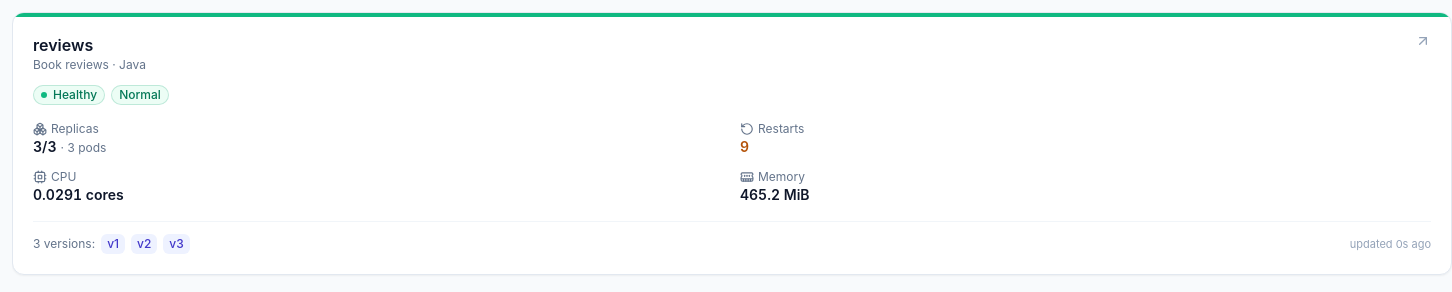
Test: ServiceCard › navigates to /services/<name> when clicked
Click the link with aria-label "open details of the reviews microservice".
click(732, 259)  # box [12,12,1451,275]
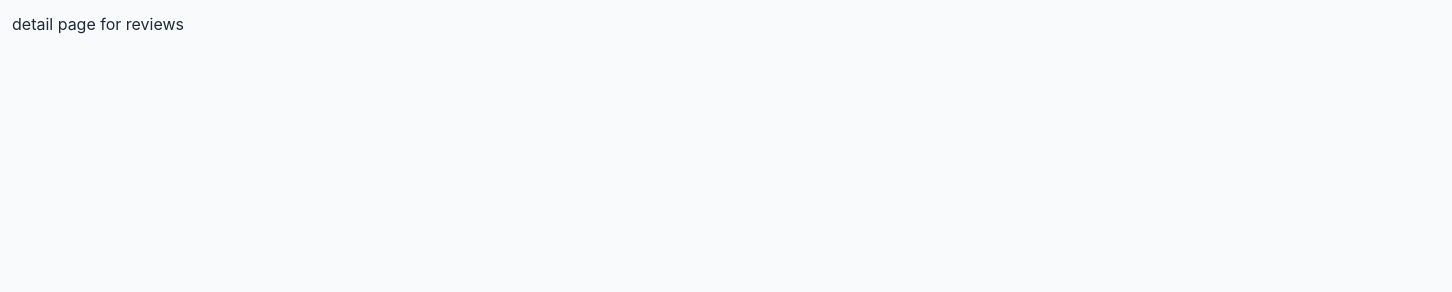
Expected: the heading "detail page for reviews" is shown, [12,14,184,34]
